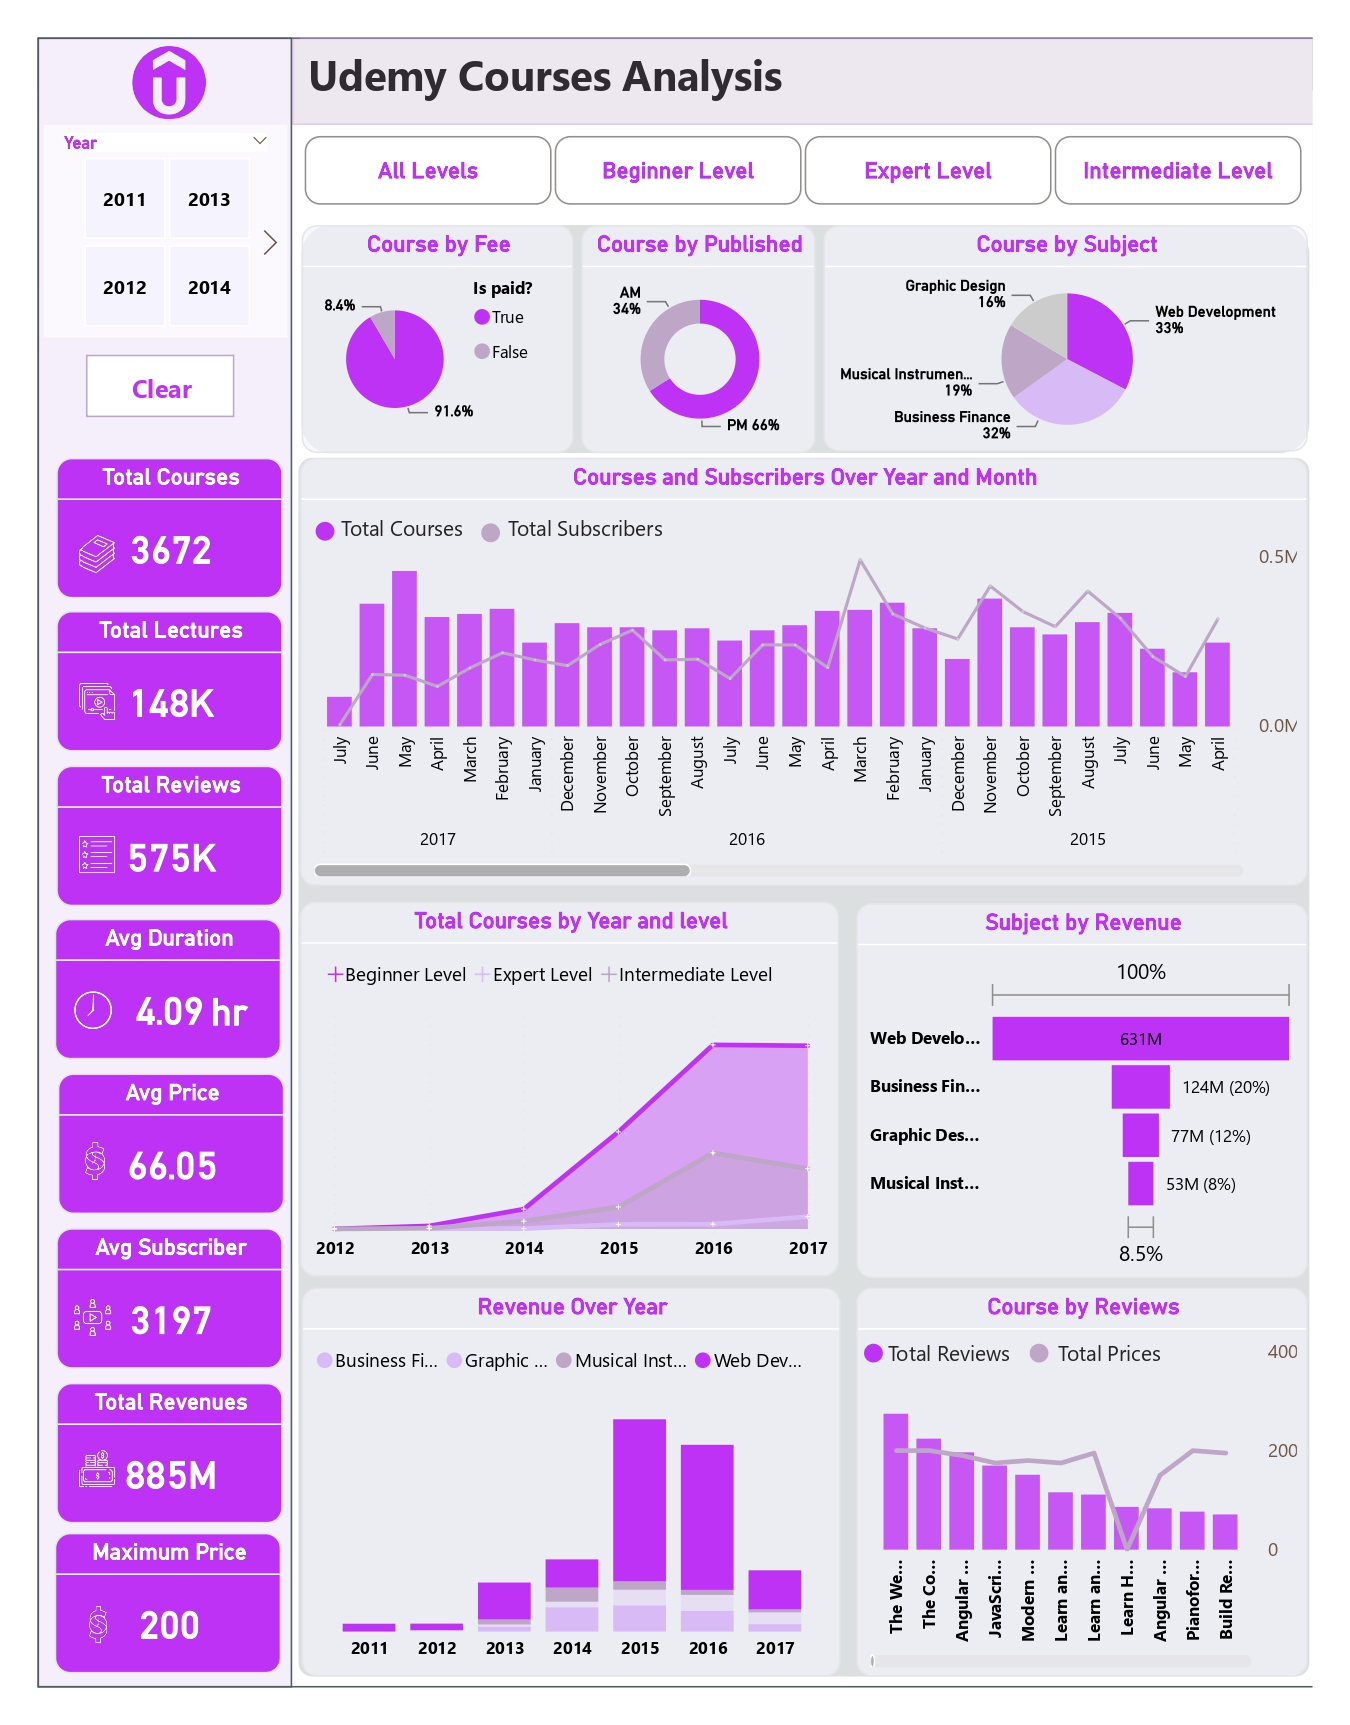

What the dashboard file says about the page in this screenshot:
{"tool":"powerbi","page":{"name":"Udemy Courses Analysis","canvas":[816,1056],"ordinal":0},"visuals":[{"type":"shape","box":[0,0,1211.2,1056.5],"z":0},{"type":"shape","box":[167,269,647,780],"z":1000},{"type":"shape","box":[168.9,120,645.6,145.6],"z":2000},{"type":"shape","box":[0,0,163,1055.8],"z":3000},{"type":"pieChart","title":"Course by Subject","fields":{"Y":["Count(Onyx Data -DataDNA Dataset Chal (2).course_id)"],"Category":["Onyx Data -DataDNA Dataset Chal (2).subject"]},"box":[502.7,120,310,145.5],"z":4000},{"type":"textbox","box":[167.5,0,1112.5,57.5],"z":5000},{"type":"donutChart","title":"Course by Published","fields":{"Category":["Onyx Data -DataDNA Dataset Chal (2).published_time2"],"Y":["Sum(Onyx Data -DataDNA Dataset Chal (2).course_id)"]},"box":[348,120,150,145.6],"z":6000},{"type":"clusteredBarChart","title":"Course by Subject","fields":{"Category":["Onyx Data -DataDNA Dataset Chal (2).subject"],"Y":["Sum(Onyx Data -DataDNA Dataset Chal (2).course_id)"]},"box":[902.7,81.6,366.2,195.1],"z":7000},{"type":"card","title":"Total Lectures","fields":{"Values":["All measures.# Lectures"]},"box":[12.1,367.1,145.3,90],"z":8000,"group":"g2"},{"type":"areaChart","title":"Total Courses by Year and level","fields":{"Category":["Onyx Data -DataDNA Dataset Chal (2).published_date.Variation.Date Hierarchy.Year"],"Y":["Sum(Onyx Data -DataDNA Dataset Chal (2).course_id)"],"Series":["Onyx Data -DataDNA Dataset Chal (2).level"]},"box":[168.3,553.3,345,240],"z":8000},{"type":"image","box":[0,0,167.5,58.1],"z":9000},{"type":"slicer","fields":{"Values":["Onyx Data -DataDNA Dataset Chal (2).published_date.Variation.Date Hierarchy.Year"]},"box":[3.8,56.2,156.2,135.4],"z":10000},{"type":"advancedSlicerVisual","fields":{"Values":["Onyx Data -DataDNA Dataset Chal (2).level"]},"box":[166,58,649,54],"z":11000},{"type":"card","title":"Total Courses","fields":{"Values":["All measures.# Courses"]},"box":[12.1,268.9,145,90.1],"z":11000,"group":"g1"},{"type":"pieChart","title":"Course by Fee","fields":{"Category":["Onyx Data -DataDNA Dataset Chal (2).is_paid"],"Y":["Count(Onyx Data -DataDNA Dataset Chal (2).course_id)"]},"box":[168.9,120,174.4,145.6],"z":12000},{"type":"card","title":"Total Reviews","fields":{"Values":["All measures.# Reviews"]},"box":[12.1,465.8,145.3,90],"z":12000,"group":"g3"},{"type":"card","title":"Avg Duration","fields":{"Values":["All measures.Avg duration"]},"box":[11,564.5,145.3,90],"z":12500,"group":"g4"},{"type":"lineStackedColumnComboChart","title":"Revenue Over Year","fields":{"Category":["Onyx Data -DataDNA Dataset Chal (2).published_date.Variation.Date Hierarchy.Year"],"Y":["All measures.#Revenue"],"Series":["Onyx Data -DataDNA Dataset Chal (2).subject"]},"box":[168.6,800,345,248.6],"z":13000},{"type":"lineClusteredColumnComboChart","title":"Courses and Subscribers Over Year and Month","fields":{"Category":["Onyx Data -DataDNA Dataset Chal (2).published_date.Variation.Date Hierarchy.Year","Onyx Data -DataDNA Dataset Chal (2).published_date.Variation.Date Hierarchy.Month"],"Y":["CountNonNull(Onyx Data -DataDNA Dataset Chal (2).course_title)"],"Y2":["Sum(Onyx Data -DataDNA Dataset Chal (2).num_subscribers)"]},"box":[167.5,268.8,645,273.8],"z":14000},{"type":"card","title":"Avg Price","fields":{"Values":["All measures.Avg price"]},"box":[13.2,663.2,145.3,90],"z":14000,"group":"g5"},{"type":"funnel","title":"Subject by Revenue","fields":{"Category":["Onyx Data -DataDNA Dataset Chal (2).subject"],"Y":["All measures.#Revenue"]},"box":[523.6,553.6,289.1,240],"z":15000},{"type":"card","title":"Avg Subscriber","fields":{"Values":["All measures.Avg subscribers"]},"box":[12.1,761.8,145.3,90],"z":15000,"group":"g8"},{"type":"lineStackedColumnComboChart","title":"Course by Reviews","fields":{"Category":["Onyx Data -DataDNA Dataset Chal (2).course_title"],"Y":["All measures.# Reviews"],"Y2":["Sum(Onyx Data -DataDNA Dataset Chal (2).price)"]},"box":[523.6,800,289.3,248.6],"z":16000},{"type":"actionButton","title":" ","box":[31,203,95,40],"z":17000},{"type":"image","box":[19.7,312,36.2,36.9],"z":18000,"group":"g1"},{"type":"textbox","box":[97.5,607.5,57.5,42.5],"z":18000},{"type":"shape","box":[162.5,0,655,55.8],"z":19000},{"type":"image","box":[19.7,407,36.2,36.2],"z":19000,"group":"g2"},{"type":"group","id":"g1","title":"Group 1","box":[12.1,268.9,145,90.1],"z":20000},{"type":"shape","box":[178,310.3,12.1,12.1],"z":20000,"group":"g7"},{"type":"image","box":[17.4,605,36.4,36.4],"z":20000,"group":"g4"},{"type":"shape","box":[284.4,310.5,12,12],"z":21000,"group":"g7"},{"type":"group","id":"g2","title":"Group 2","box":[12.1,367.1,145.3,90],"z":21000},{"type":"image","box":[18.5,701.2,36.4,36.4],"z":21000,"group":"g5"},{"type":"textbox","box":[189.4,300,100.9,32.7],"z":22000,"group":"g7"},{"type":"image","box":[17,800.7,36.2,36.2],"z":22000,"group":"g8"},{"type":"textbox","box":[295.9,300.3,135.7,32.9],"z":23000,"group":"g7"},{"type":"shape","box":[529,835.7,12.1,12.1],"z":24000,"group":"g6"},{"type":"image","box":[17.7,996.9,37.7,35.4],"z":24000},{"type":"group","id":"g3","title":"Group 3","box":[12.1,465.8,145.3,90],"z":25000},{"type":"shape","box":[635.4,836,12,12],"z":25000,"group":"g6"},{"type":"group","id":"g4","title":"Group 4","box":[11,564.5,145.3,90],"z":26000},{"type":"textbox","box":[539.4,828,100,31],"z":26000,"group":"g6"},{"type":"textbox","box":[647.6,828.5,101.8,32.7],"z":27000,"group":"g6"},{"type":"card","title":"Total Revenues","fields":{"Values":["All measures.#Revenue"]},"box":[11.6,860.5,145,90],"z":27000},{"type":"group","id":"g5","title":"Group 5","box":[13.2,663.2,145.3,90],"z":28000},{"type":"group","id":"g6","title":"Group 8","box":[529,828,220,33],"z":29000},{"type":"group","id":"g7","title":"Group 9","box":[178,300,254,33],"z":30000},{"type":"card","title":"Maximum Price","fields":{"Values":["Max(Onyx Data -DataDNA Dataset Chal (2).price)"]},"box":[11,957,145,90],"z":31000},{"type":"group","id":"g8","title":"Group 6","box":[12.1,761.8,145.3,90],"z":33000},{"type":"textbox","box":[106.1,604.9,49.5,47.8],"z":34000},{"type":"image","box":[20,997.5,36.2,35],"z":34500},{"type":"image","box":[20,896.7,35.8,38.3],"z":34501},{"type":"image","box":[19.7,504.4,36.2,36.2],"z":41000,"group":"g3"}]}

Visuals, with their boxes in screenshot pixels (x1, y1, x2, y2):
shape: l=31, t=45, r=1349, b=1687
shape: l=291, t=463, r=1296, b=1675
shape: l=294, t=231, r=1297, b=458
shape: l=31, t=45, r=285, b=1685
"Course by Subject" pieChart: l=813, t=231, r=1294, b=457
textbox: l=292, t=45, r=1349, b=134
"Course by Published" donutChart: l=572, t=231, r=805, b=458
"Total Lectures" card: l=50, t=615, r=276, b=755
"Total Courses by Year and level" areaChart: l=293, t=905, r=829, b=1278
image: l=31, t=45, r=292, b=135
slicer - Onyx Data -DataDNA Dataset Chal (2).published_date.Variation.Date Hierarchy.Year: l=37, t=132, r=280, b=343
advancedSlicerVisual - Onyx Data -DataDNA Dataset Chal (2).level: l=289, t=135, r=1298, b=219
"Total Courses" card: l=50, t=463, r=276, b=603
"Course by Fee" pieChart: l=294, t=231, r=565, b=458
"Total Reviews" card: l=50, t=769, r=276, b=909
"Avg Duration" card: l=49, t=922, r=274, b=1062
"Revenue Over Year" lineStackedColumnComboChart: l=293, t=1288, r=829, b=1674
"Courses and Subscribers Over Year and Month" lineClusteredColumnComboChart: l=292, t=463, r=1294, b=888
"Avg Price" card: l=52, t=1075, r=278, b=1215
"Subject by Revenue" funnel: l=845, t=905, r=1294, b=1278
"Avg Subscriber" card: l=50, t=1229, r=276, b=1368
"Course by Reviews" lineStackedColumnComboChart: l=845, t=1288, r=1295, b=1674
" " actionButton: l=80, t=360, r=227, b=423
image: l=62, t=530, r=118, b=587
textbox: l=183, t=989, r=272, b=1055
shape: l=284, t=45, r=1302, b=132
image: l=62, t=677, r=118, b=734
"Group 1" group: l=50, t=463, r=276, b=603
shape: l=308, t=527, r=327, b=546
image: l=58, t=985, r=115, b=1042
shape: l=473, t=527, r=492, b=546
"Group 2" group: l=50, t=615, r=276, b=755
image: l=60, t=1134, r=117, b=1191
textbox: l=326, t=511, r=483, b=562
image: l=58, t=1289, r=114, b=1345
textbox: l=491, t=512, r=702, b=563
shape: l=853, t=1343, r=872, b=1362
image: l=59, t=1594, r=118, b=1649
"Group 3" group: l=50, t=769, r=276, b=909
shape: l=1019, t=1344, r=1037, b=1363
"Group 4" group: l=49, t=922, r=274, b=1062
textbox: l=870, t=1331, r=1025, b=1380
textbox: l=1038, t=1332, r=1196, b=1383
"Total Revenues" card: l=49, t=1382, r=275, b=1522
"Group 5" group: l=52, t=1075, r=278, b=1215
"Group 8" group: l=853, t=1331, r=1195, b=1383
"Group 9" group: l=308, t=511, r=703, b=562
"Maximum Price" card: l=49, t=1532, r=274, b=1672
"Group 6" group: l=50, t=1229, r=276, b=1368
textbox: l=196, t=985, r=273, b=1059
image: l=63, t=1595, r=119, b=1649
image: l=63, t=1438, r=118, b=1498
image: l=62, t=829, r=118, b=885
